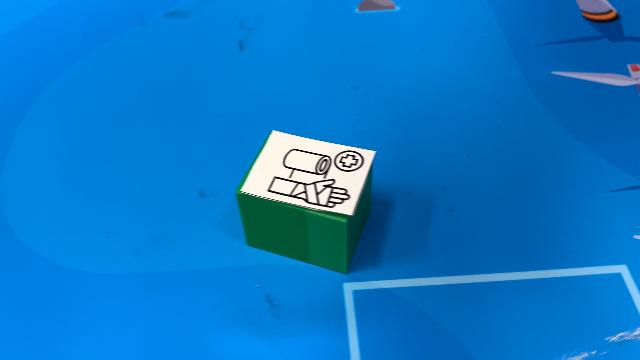bandage: (235, 128, 378, 274)
